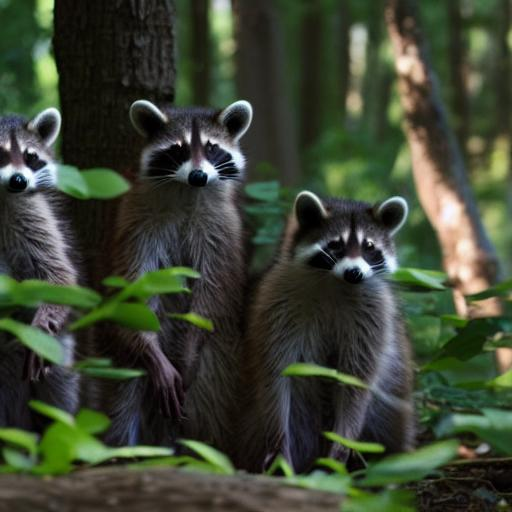raccoon: (99, 82, 261, 455), (249, 181, 421, 466), (0, 99, 89, 461)
